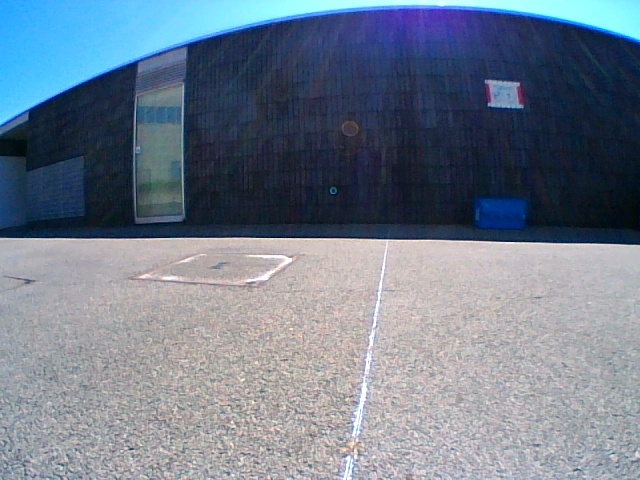blue_box: (473, 199, 523, 229)
tag: (474, 209, 478, 220)
